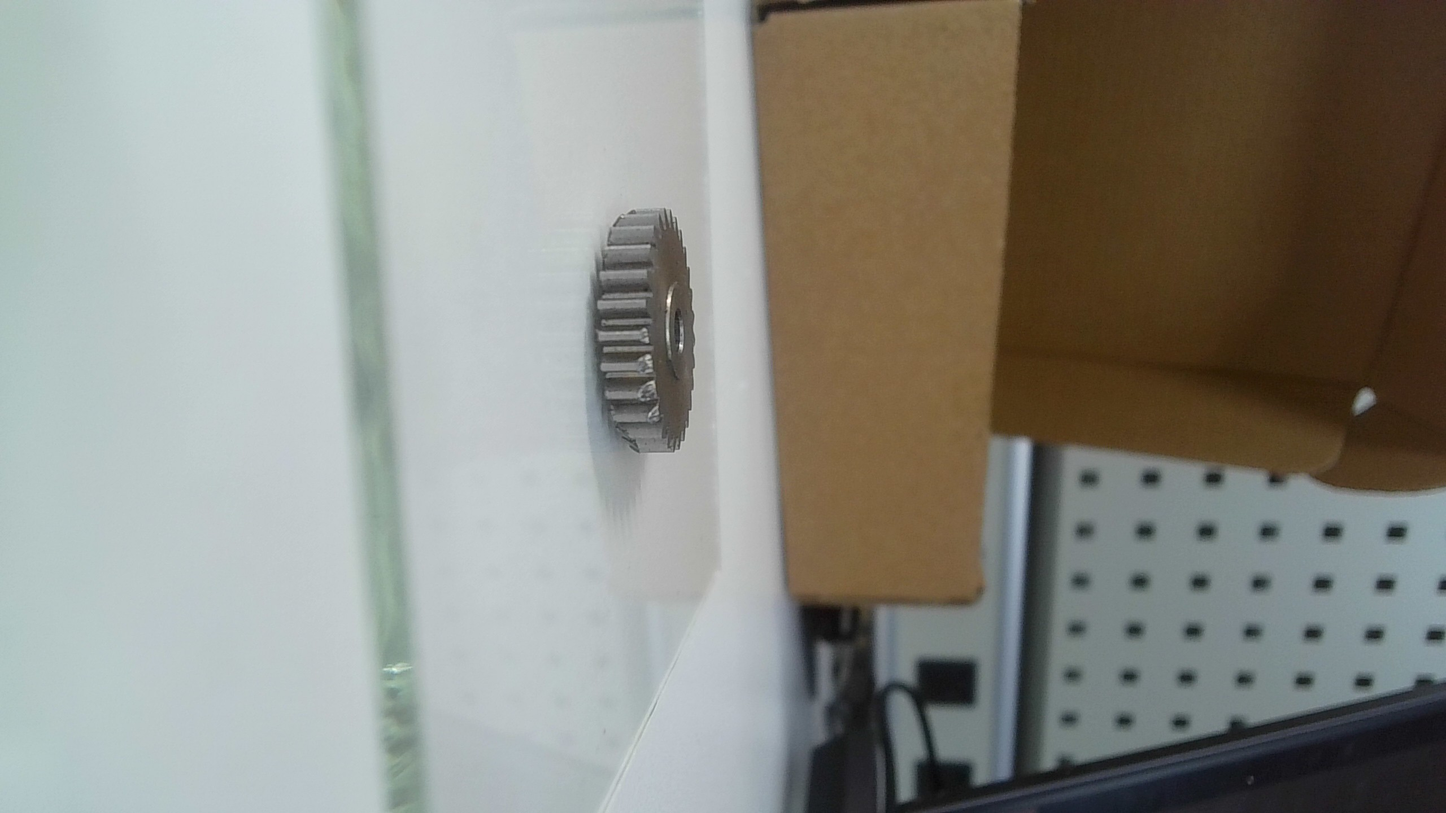gear: (593, 201, 699, 454)
